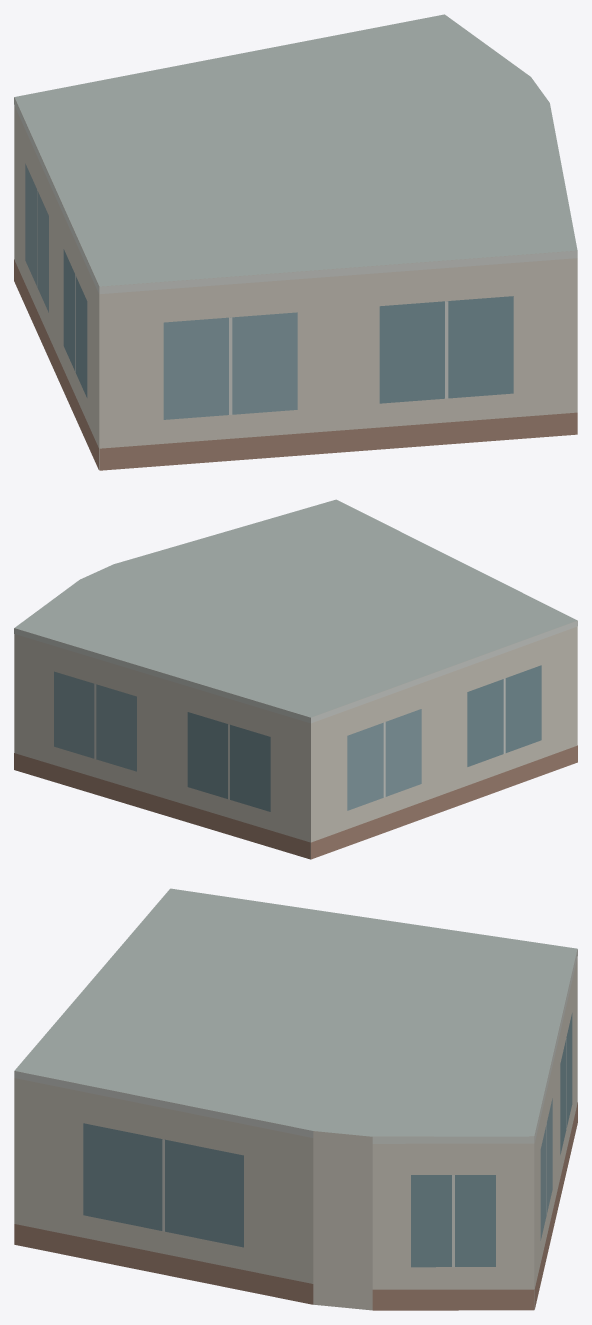
The model's file is survey-upis-32458328.glb.
3 renders of one model, top to bottom at view 1: azimuth 30°, elevation 25°; view 2: azimuth 150°, elevation 25°; view 3: azimuth 270°, elevation 25°, orthographic. The views are drawn at different scales.
Visible parts, largest first — view 1: survey-upis-32458328.tmp; view 2: survey-upis-32458328.tmp; view 3: survey-upis-32458328.tmp.
Boxes of the visible parts, x1,y1,x2,y2 form: survey-upis-32458328.tmp: [14, 14, 577, 470]; survey-upis-32458328.tmp: [14, 499, 577, 859]; survey-upis-32458328.tmp: [14, 888, 577, 1310].
Size of the model in its own units: 9.36 by 3.05 by 8.97.
